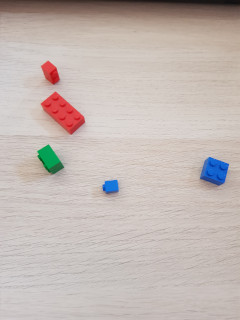1x1 blue: (101, 179, 119, 196)
1x2 red: (40, 61, 60, 84)
2x2 blue: (201, 157, 229, 187)
2x2 green: (37, 144, 64, 176)
2x4 red: (41, 89, 86, 136)
